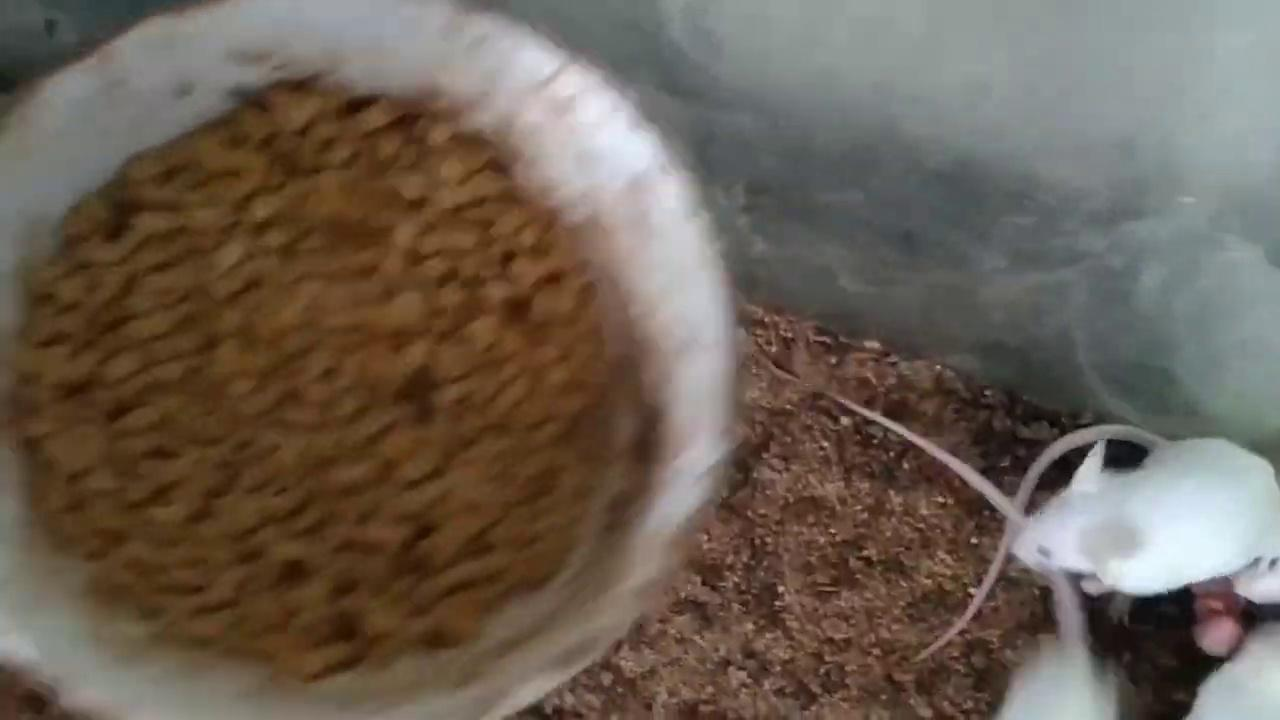rat: (832, 392, 1116, 720), (1013, 436, 1280, 596)
